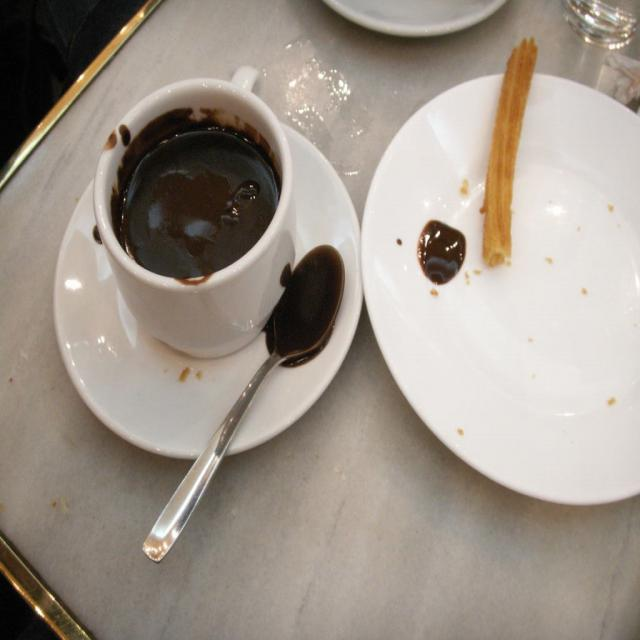non-organic waste: (364, 76, 640, 562), (34, 100, 362, 487)
